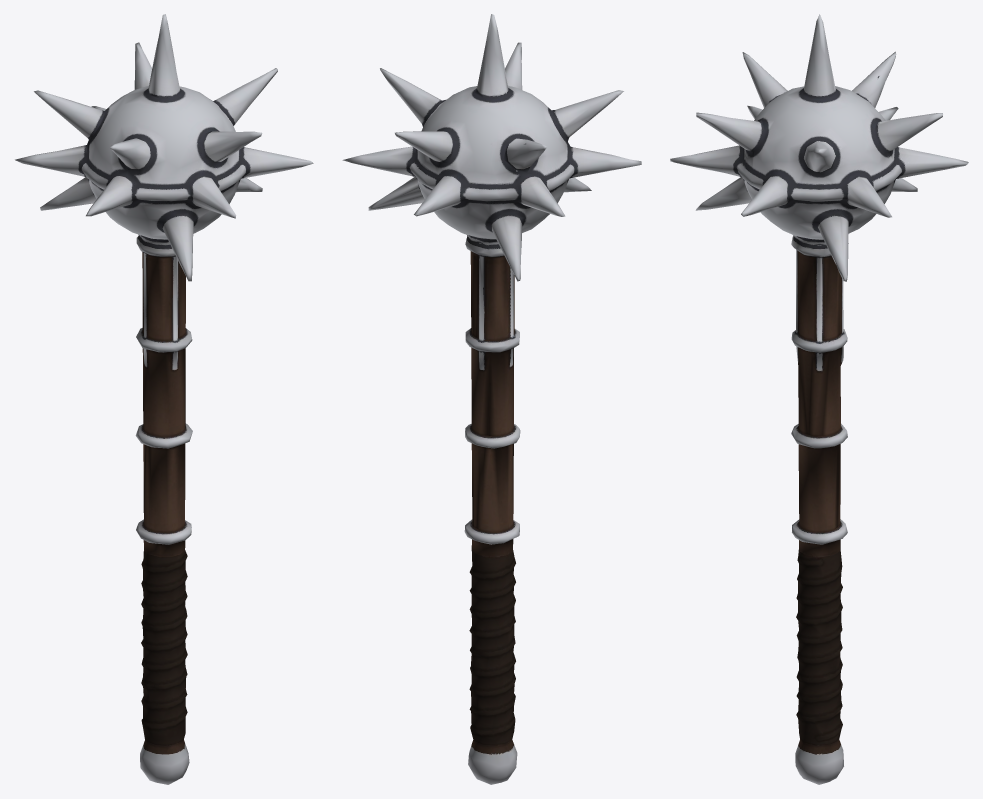
File: weapon_mace_spiked.glb
3 views of the same model, side by side, from view 1: azimuth 30°, elevation 25°; view 2: azimuth 150°, elevation 25°; view 3: azimuth 270°, elevation 25° (orthographic).
Visible parts, largest first — view 1: weapon_mace_spiked; view 2: weapon_mace_spiked; view 3: weapon_mace_spiked.
Part boxes in pixels (box(x1,y1,x2,y2)): weapon_mace_spiked: box(15, 14, 313, 784); weapon_mace_spiked: box(342, 14, 641, 784); weapon_mace_spiked: box(670, 14, 968, 784).
Size of the model in its own units: 0.2983 by 0.9606 by 0.3387.
1 material, 1 textured.
